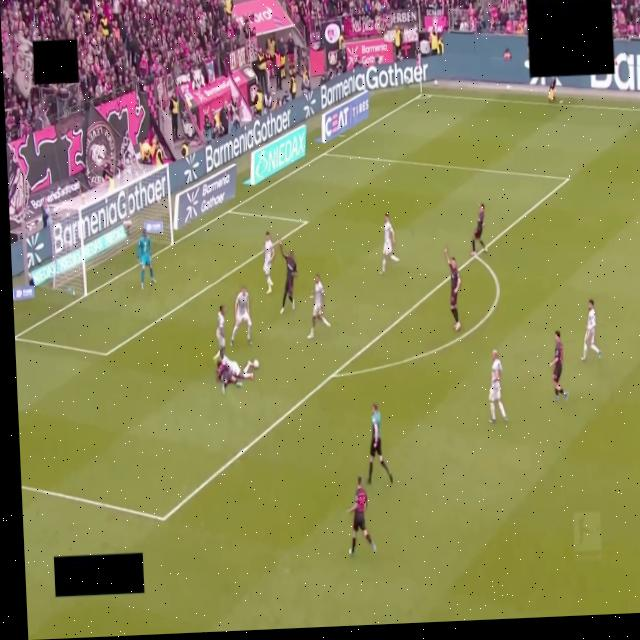ball: (254, 360, 259, 368)
player: (348, 477, 375, 555), (217, 350, 254, 393), (489, 350, 508, 423), (308, 275, 330, 338), (378, 213, 400, 275), (279, 241, 297, 313), (550, 331, 568, 400), (445, 249, 460, 331), (217, 350, 257, 380), (582, 299, 601, 361), (231, 288, 251, 345), (137, 229, 155, 289), (472, 203, 486, 256), (263, 232, 274, 294), (214, 306, 225, 364)
referee: (368, 404, 393, 484)
